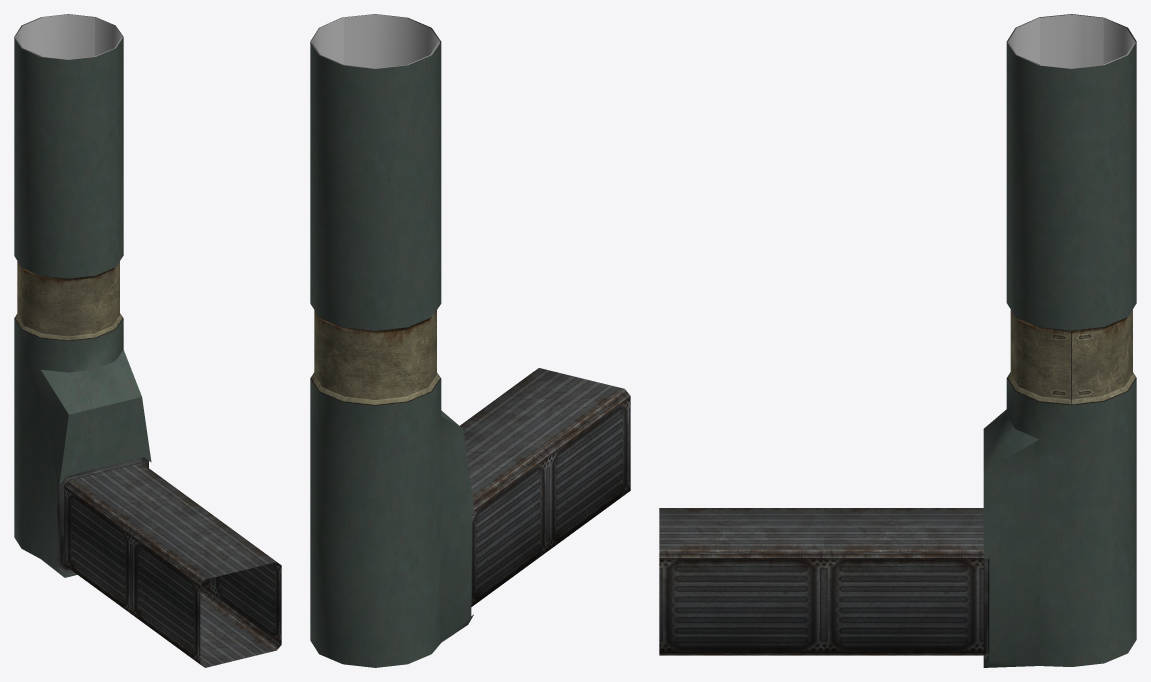
The model's file is traintunnel_escape_ladderhole.dae.
3 views of the same model, side by side, from view 1: azimuth 30°, elevation 25°; view 2: azimuth 150°, elevation 25°; view 3: azimuth 270°, elevation 25° (orthographic). The views are drawn at different scales.
Visible parts, largest first — view 1: Mesh, polySurface1112, moss; view 2: Mesh, polySurface1112, moss; view 3: Mesh, polySurface1112, moss.
Boxes of the visible parts, left/top/right/bottom form: Mesh: left=14, top=14, right=151, bottom=577; polySurface1112: left=14, top=261, right=281, bottom=667; moss: left=15, top=14, right=122, bottom=59; Mesh: left=310, top=14, right=474, bottom=667; polySurface1112: left=310, top=310, right=630, bottom=606; moss: left=311, top=14, right=439, bottom=68; Mesh: left=983, top=14, right=1136, bottom=667; polySurface1112: left=659, top=309, right=1136, bottom=658; moss: left=1007, top=14, right=1135, bottom=68.
Size of the model in its own units: 1.57 by 8.06 by 5.79.
